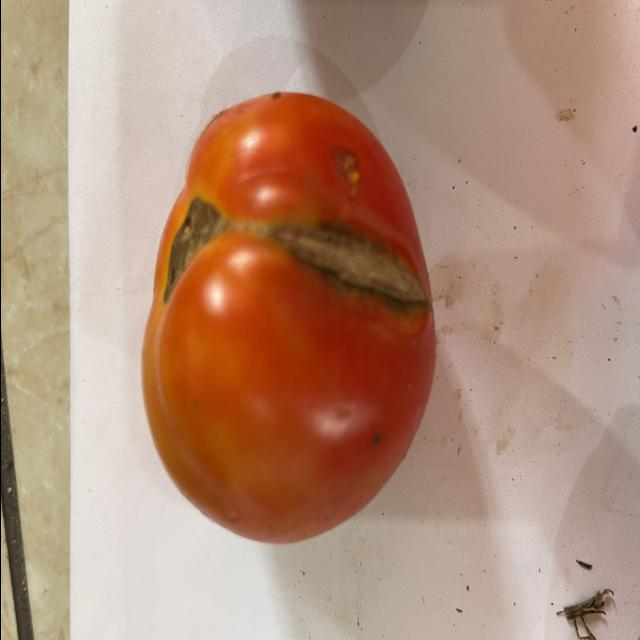tomato_cracking: (264, 202, 429, 321)
